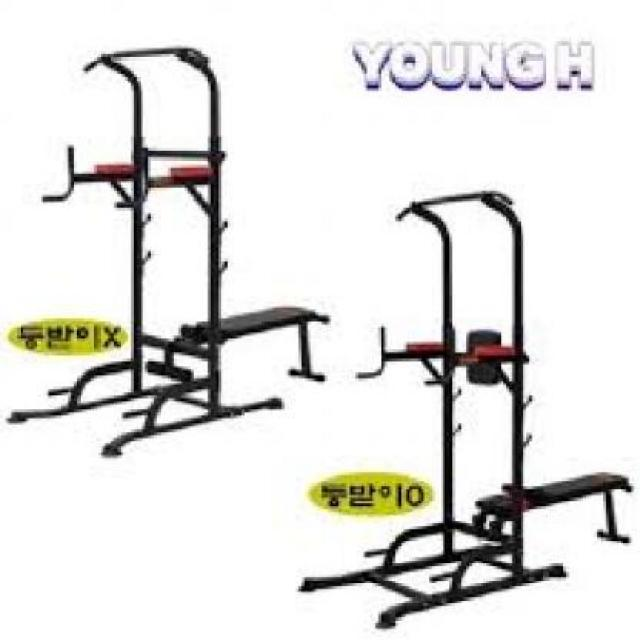chinning dipping: (357, 188, 568, 629), (41, 46, 234, 459)
